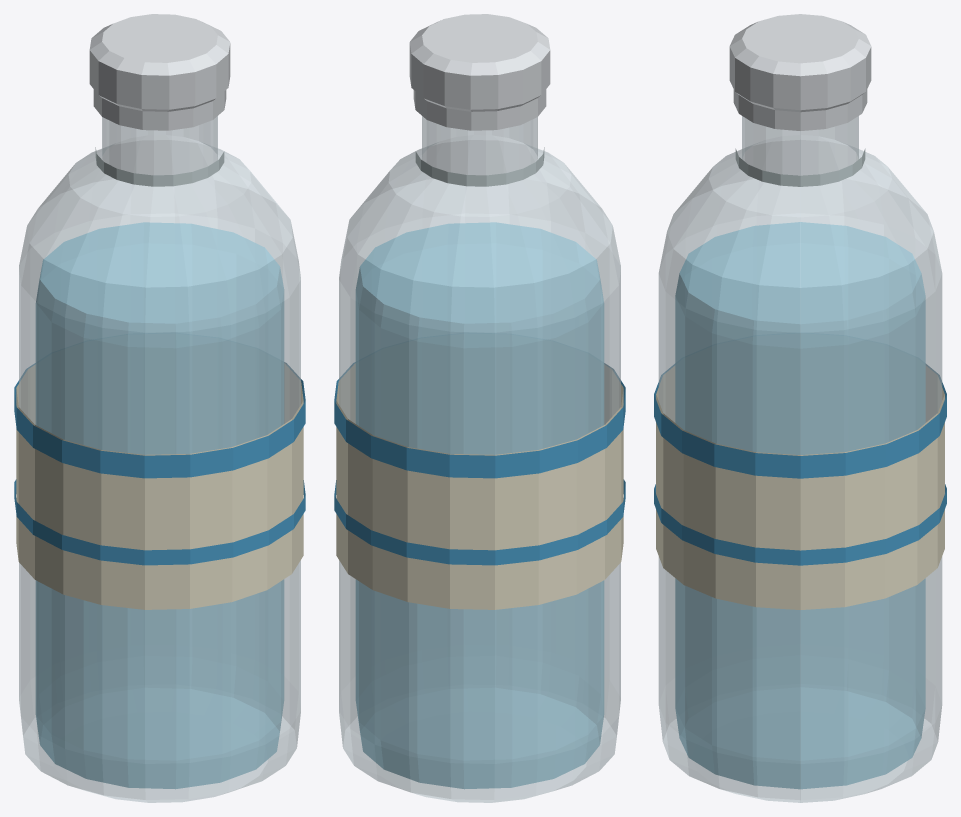
The model's file is 09_glass_water_bottle_clear_250ml.glb.
3 views of the same model, side by side, from view 1: azimuth 30°, elevation 25°; view 2: azimuth 150°, elevation 25°; view 3: azimuth 270°, elevation 25° (orthographic).
Parts seen in each view (by area): view 1: glass_bottle_shell, water_fill, label_blue_band; view 2: glass_bottle_shell, water_fill, label_blue_band; view 3: glass_bottle_shell, water_fill, label_blue_band.
Boxes of the visible parts, box(x1,y1,x2,y2) form: glass_bottle_shell: box(19, 116, 300, 802); water_fill: box(35, 222, 284, 789); label_blue_band: box(14, 14, 305, 609); glass_bottle_shell: box(339, 116, 620, 802); water_fill: box(355, 222, 604, 789); label_blue_band: box(334, 14, 625, 609); glass_bottle_shell: box(658, 116, 942, 802); water_fill: box(675, 222, 925, 789); label_blue_band: box(654, 14, 946, 609).
Bounding box in the file's own units: 0.0702 × 0.19 × 0.0702.
